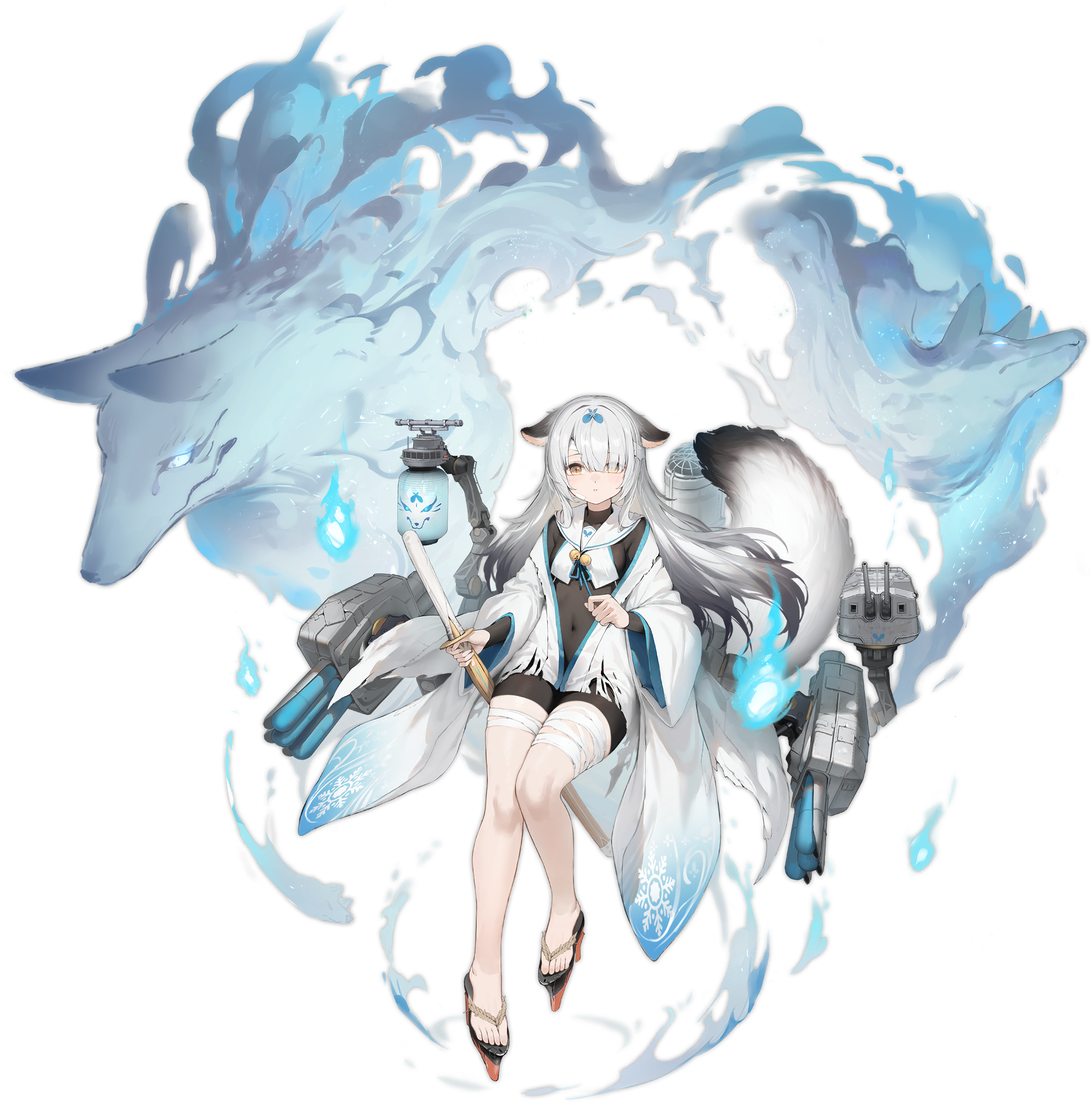person: (366, 289, 786, 1097)
